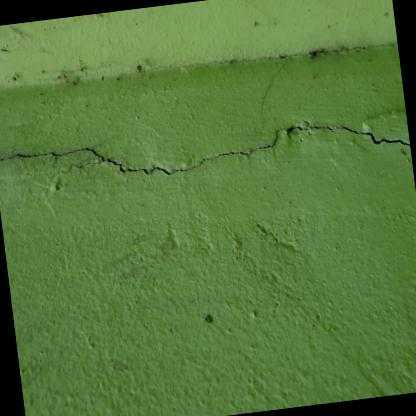crack: (0, 122, 411, 175)
